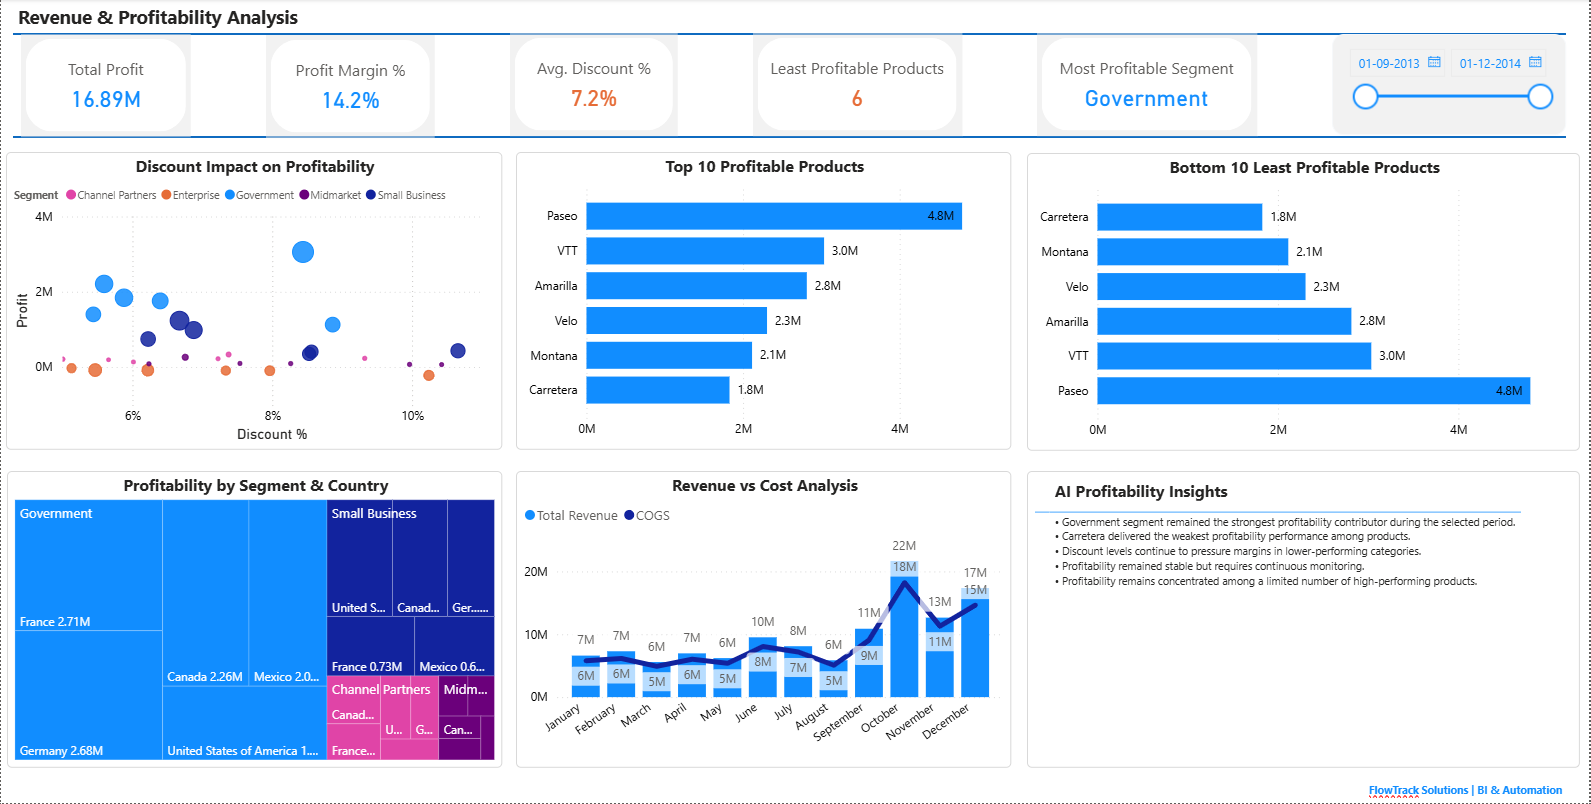

The dashboard page shown, as its layout file describes it:
{"tool":"powerbi","page":{"name":"Revenue & Profitability Analysis","canvas":[1600,810],"ordinal":2},"visuals":[{"type":"scatterChart","title":"Discount Impact on Profitability","fields":{"X":["financials.Discount %"],"Y":["Sum(financials.Profit)"],"Size":["Sum(financials.Sale Price)"],"Category":["financials.Product"],"Series":["financials.Segment"]},"box":[5.2,153.7,499.6,300.2],"z":0},{"type":"barChart","title":"Top 10 Profitable Products","fields":{"Category":["financials.Product"],"Y":["Sum(financials.Profit)"]},"box":[518.9,154.2,499.3,300.3],"z":1000},{"type":"barChart","title":"Bottom 10 Least Profitable Products","fields":{"Category":["financials.Product"],"Y":["Sum(financials.Profit)"]},"box":[1033.2,154.7,557.3,299.9],"z":2000},{"type":"treemap","title":"Profitability by Segment & Country","fields":{"Values":["Sum(financials.Profit)"],"Group":["financials.Segment"],"Details":["financials.Country"]},"box":[5.8,475.2,499.3,299.1],"z":3000},{"type":"lineClusteredColumnComboChart","title":"Revenue vs Cost Analysis","fields":{"Category":["financials.Month Name"],"Y":["financials.Total Revenue"],"Y2":["Sum(financials.COGS)"]},"box":[518.9,475.2,499.3,299.1],"z":4000},{"type":"pivotTable","title":"Sales by Ship Mode","fields":{"Values":["financials.AI Profitability Insights"]},"box":[1033.2,475.9,557.3,298.7],"z":5000},{"type":"textbox","box":[12.3,0,299.8,35.8],"z":6000},{"type":"shape","box":[12.1,31.2,1564.6,8.1],"z":7000},{"type":"shape","box":[12.1,129,1564.6,20.1],"z":8000},{"type":"textbox","box":[1373.2,781.8,217.6,28.2],"z":9000},{"type":"cardVisual","fields":{"Data":["financials.Total Profit2"]},"box":[20.1,35.3,171.3,103.8],"z":10000},{"type":"cardVisual","fields":{"Data":["financials.Profit Margin2 %"]},"box":[267,36.3,170.3,103.8],"z":11000},{"type":"cardVisual","fields":{"Data":["financials.Average Discount %"]},"box":[512.8,34.3,169.3,103.8],"z":12000},{"type":"cardVisual","fields":{"Data":["financials.Loss-Making Products"]},"box":[757.6,34.3,210.6,103.8],"z":13000},{"type":"cardVisual","fields":{"Data":["financials.Most Profitable Segment"]},"box":[1043.7,34.3,221.6,103.8],"z":14000},{"type":"slicer","fields":{"Values":["Calendar.Date"]},"box":[1340.9,35.3,235.7,101.8],"z":15000}]}

Visuals, with their boxes in screenshot pixels (x1, y1, x2, y2), scaled from the page's 1600x810 canvas onto the 1591x804 screenshot:
"Discount Impact on Profitability" scatterChart: detection(5, 153, 502, 451)
"Top 10 Profitable Products" barChart: detection(516, 153, 1012, 451)
"Bottom 10 Least Profitable Products" barChart: detection(1027, 154, 1582, 451)
"Profitability by Segment & Country" treemap: detection(6, 472, 502, 769)
"Revenue vs Cost Analysis" lineClusteredColumnComboChart: detection(516, 472, 1012, 769)
"Sales by Ship Mode" pivotTable: detection(1027, 472, 1582, 769)
textbox: detection(12, 0, 310, 36)
shape: detection(12, 31, 1568, 39)
shape: detection(12, 128, 1568, 148)
textbox: detection(1365, 776, 1582, 803)
cardVisual - financials.Total Profit2: detection(20, 35, 190, 138)
cardVisual - financials.Profit Margin2 %: detection(265, 36, 435, 139)
cardVisual - financials.Average Discount %: detection(510, 34, 678, 137)
cardVisual - financials.Loss-Making Products: detection(753, 34, 963, 137)
cardVisual - financials.Most Profitable Segment: detection(1038, 34, 1258, 137)
slicer - Calendar.Date: detection(1333, 35, 1568, 136)
